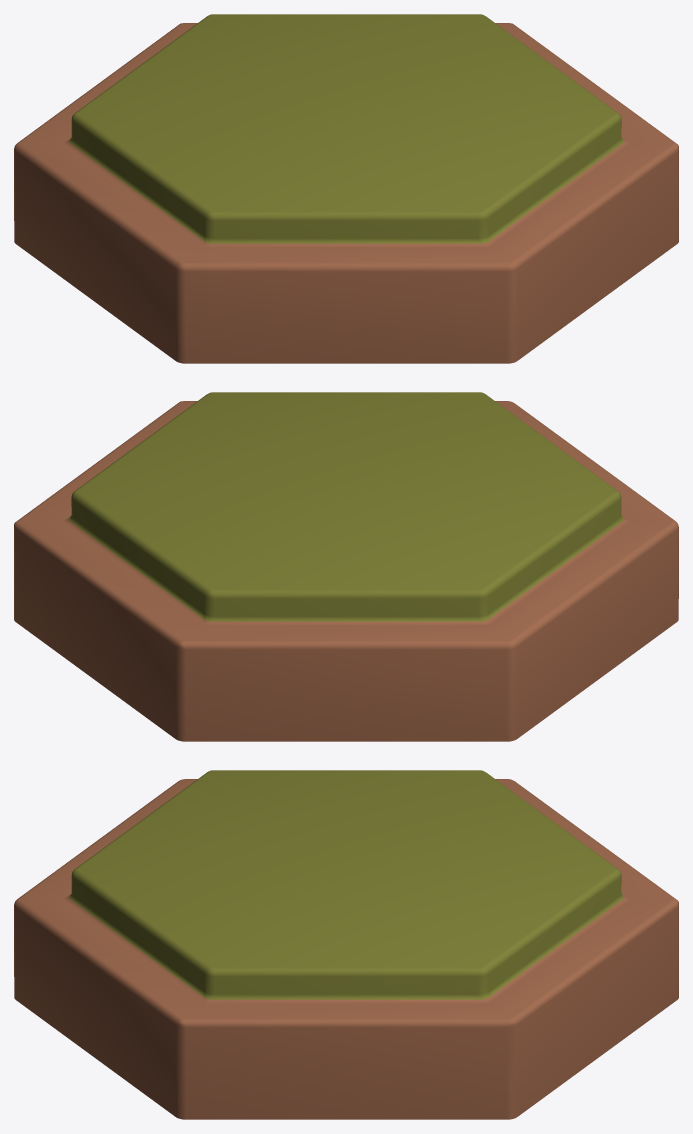
File: Single Tile.fbx
3 views of the same model, one above another, from view 1: azimuth 30°, elevation 25°; view 2: azimuth 150°, elevation 25°; view 3: azimuth 270°, elevation 25° (orthographic).
Visible parts, largest first — view 1: Polygon.001; view 2: Polygon.001; view 3: Polygon.001.
Part boxes in pixels (box(x1,y1,x2,y2)): Polygon.001: box(14, 14, 678, 363); Polygon.001: box(14, 392, 678, 741); Polygon.001: box(14, 770, 678, 1119).
Size of the model in its own units: 173 by 42.3 by 199.
